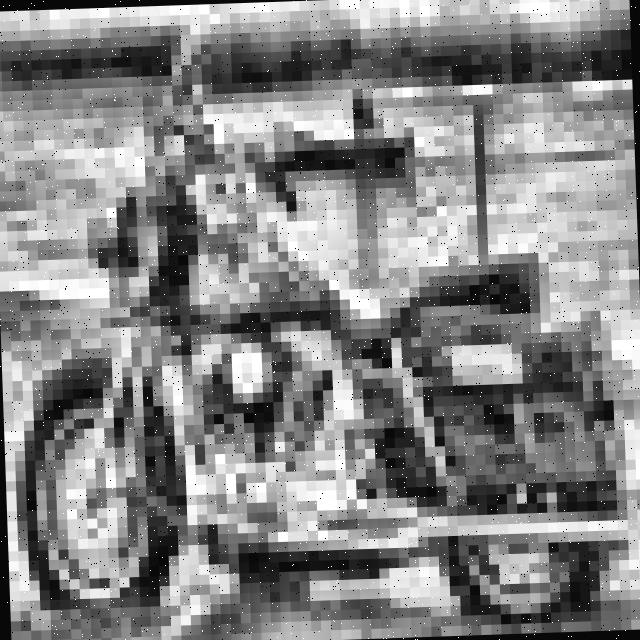mopeds: (0, 84, 637, 618)
